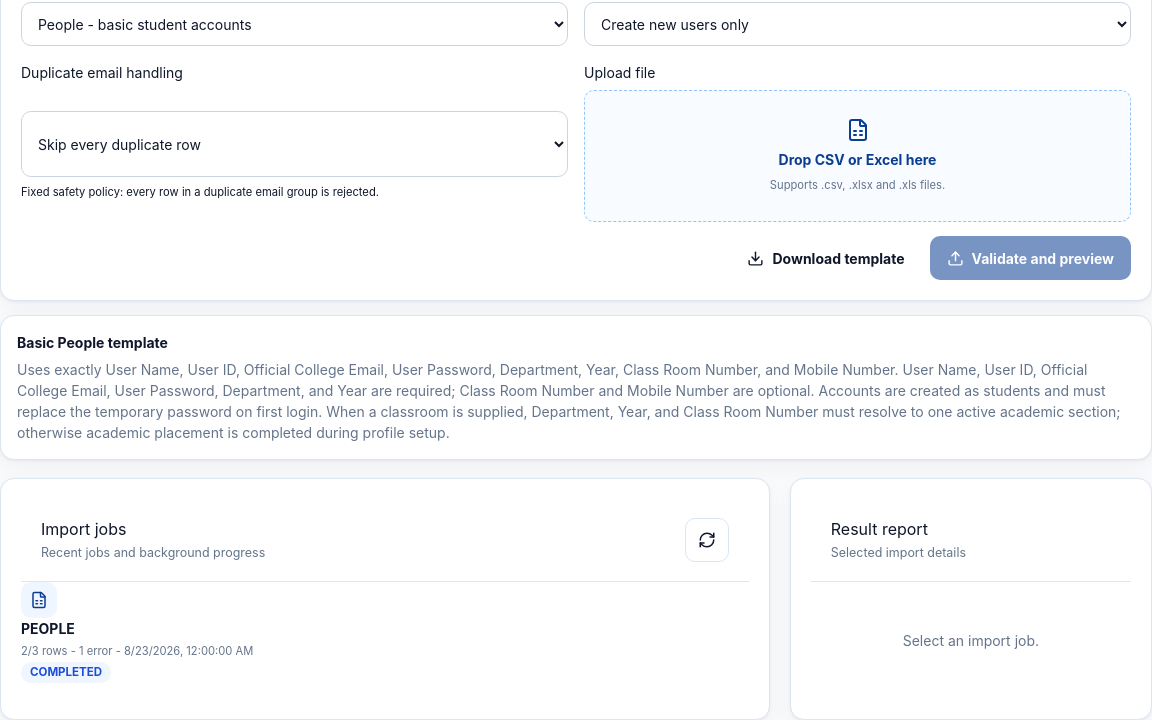
Test: People bulk import page › requires confirmation before a completed import is rolled back
(page scrolled)
Click the button "PEOPLE 2/3 rows - 1 error - 8/23/2026, 12:00:00 AM COMPLETED": [39, 600] box top-left (21, 582), bottom-right (749, 683)
(page scrolled)
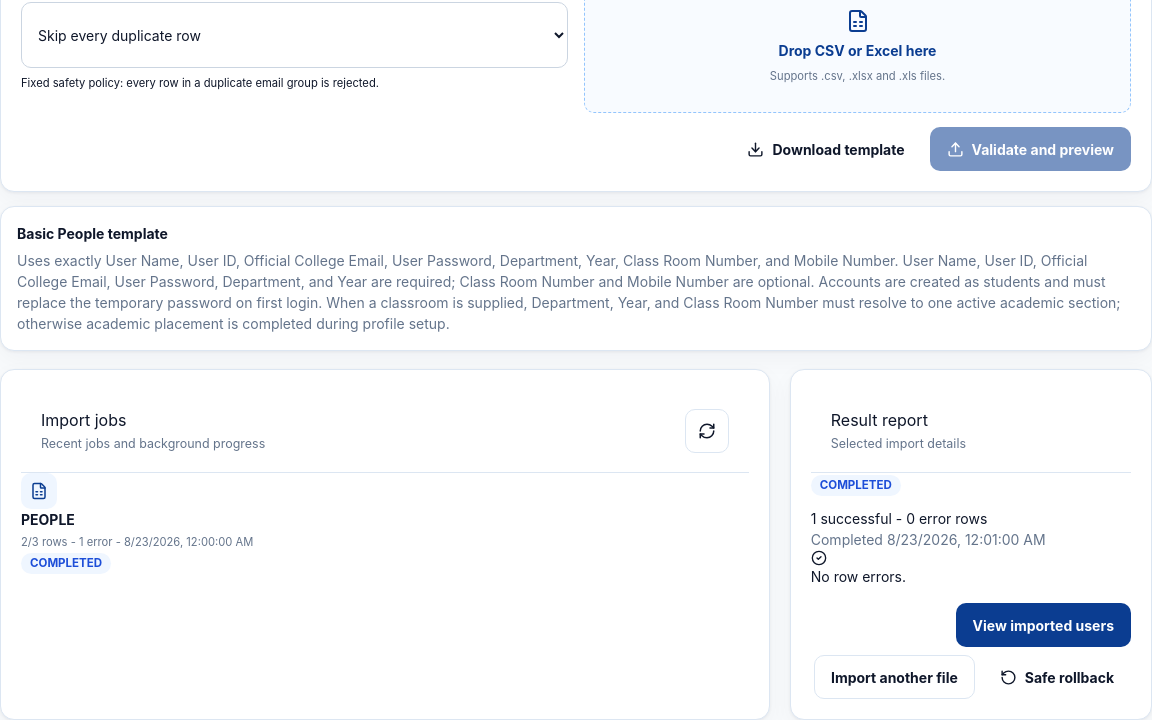
Click the button "Safe rollback": [1057, 677] box top-left (983, 655), bottom-right (1131, 699)
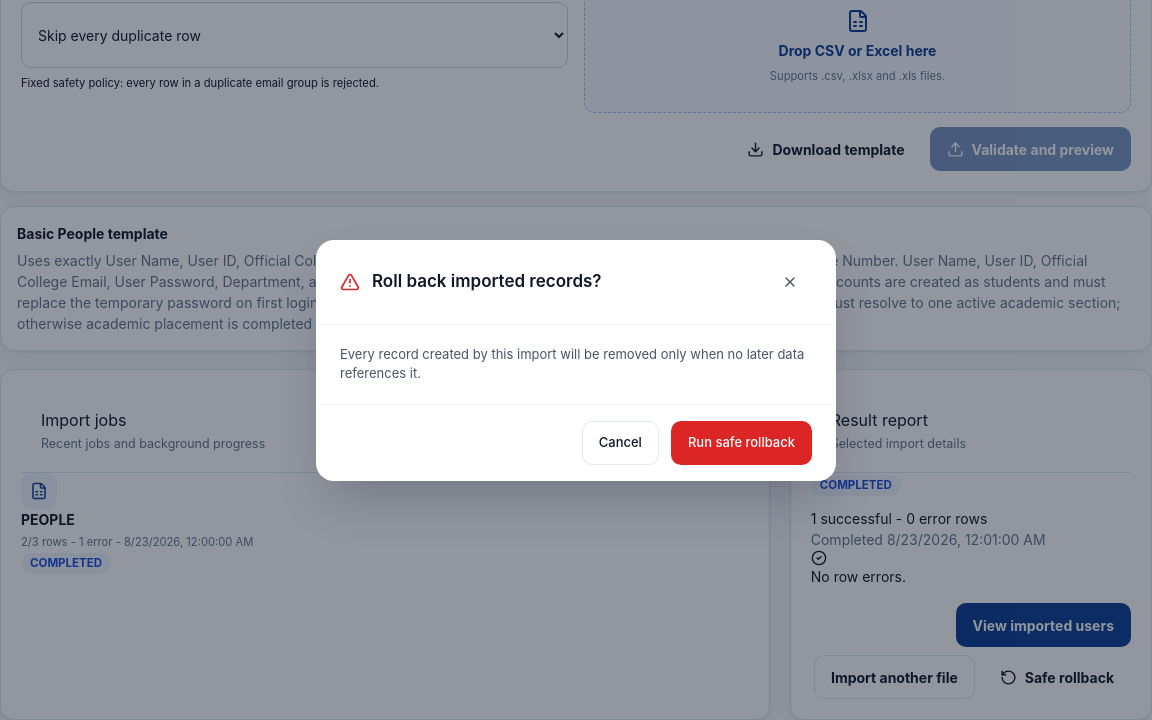
Click the button "Run safe rollback": [741, 442] box top-left (671, 420), bottom-right (812, 464)
(page scrolled)
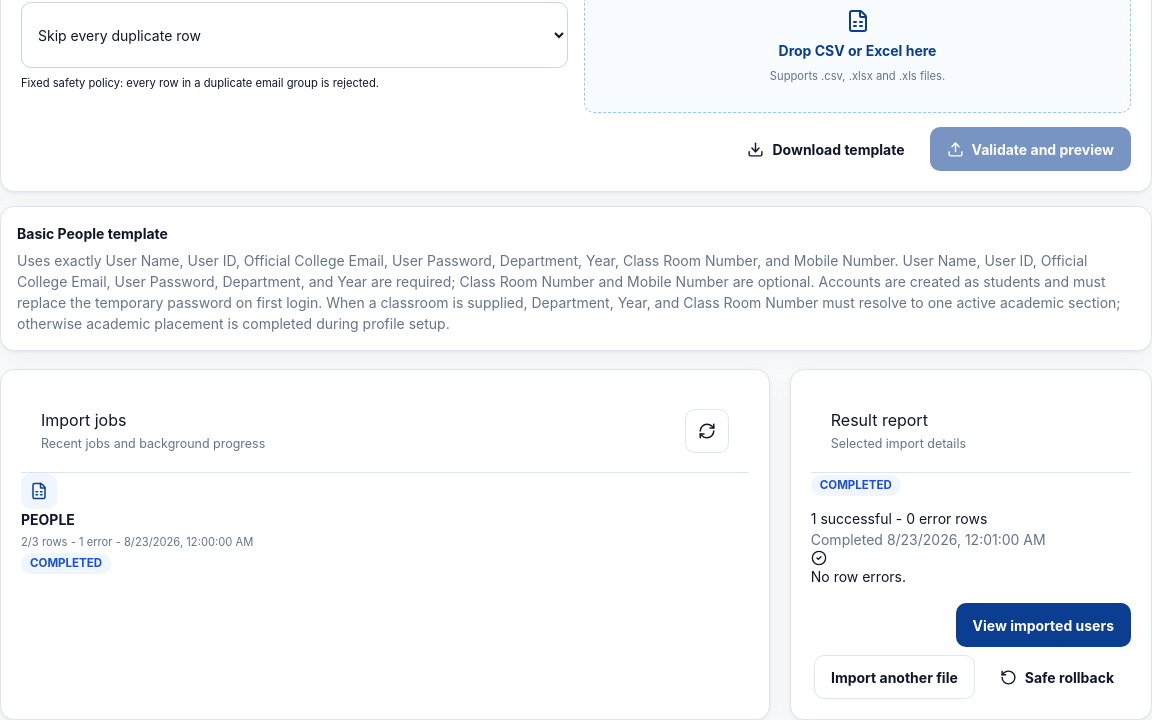
Now the dialog is gone
